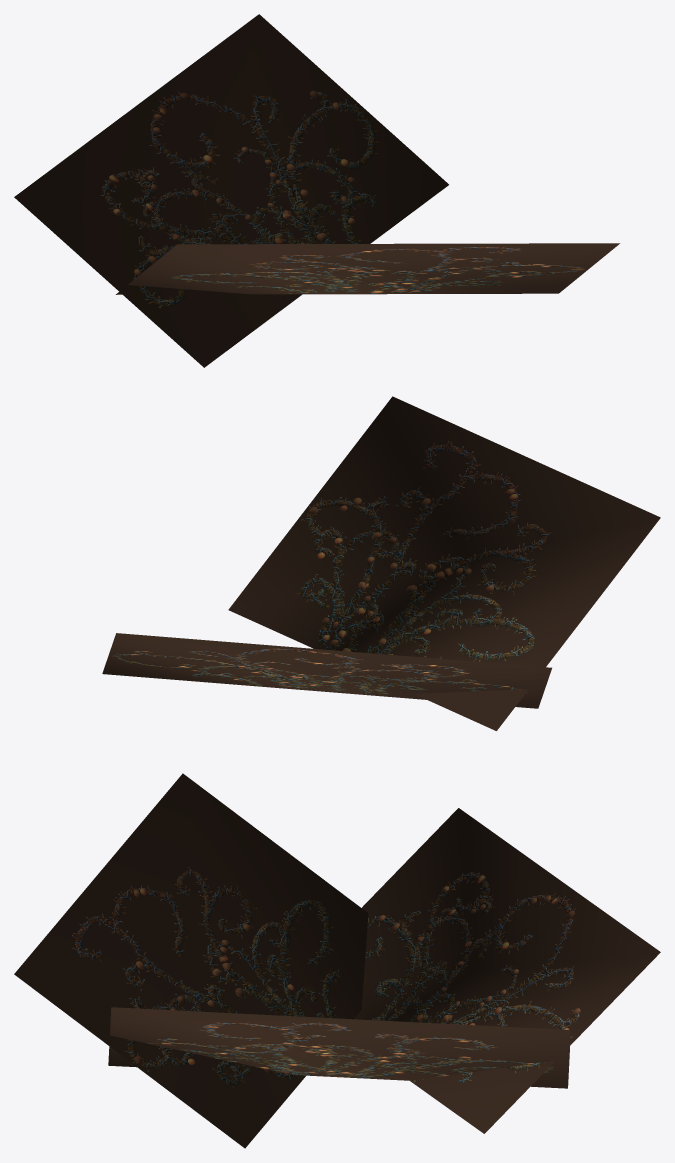
File: Ground_Cover2_L1.fbx
3 views of the same model, one above another, from view 1: azimuth 30°, elevation 25°; view 2: azimuth 150°, elevation 25°; view 3: azimuth 270°, elevation 25° (orthographic). The views are drawn at different scales.
Parts seen in each view (by area): view 1: polySurface24; view 2: polySurface24; view 3: polySurface24.
Part boxes in pixels (x1,y1,x2,y2): polySurface24: (14,14,619,367); polySurface24: (102,396,660,730); polySurface24: (14,773,660,1148).
Bounding box in the file's own units: 38.76 × 13.33 × 43.65.
